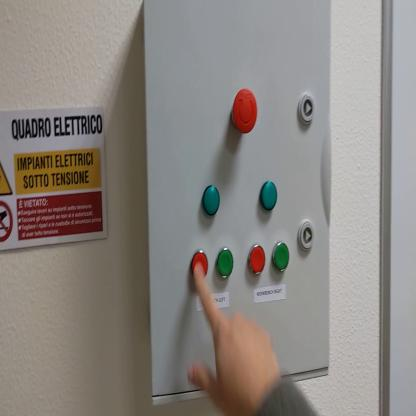hand: (186, 261, 281, 415)
left green button: (217, 249, 235, 281)
left red button: (192, 254, 209, 281)
right green button: (273, 240, 292, 273)
right red button: (249, 243, 268, 279)
